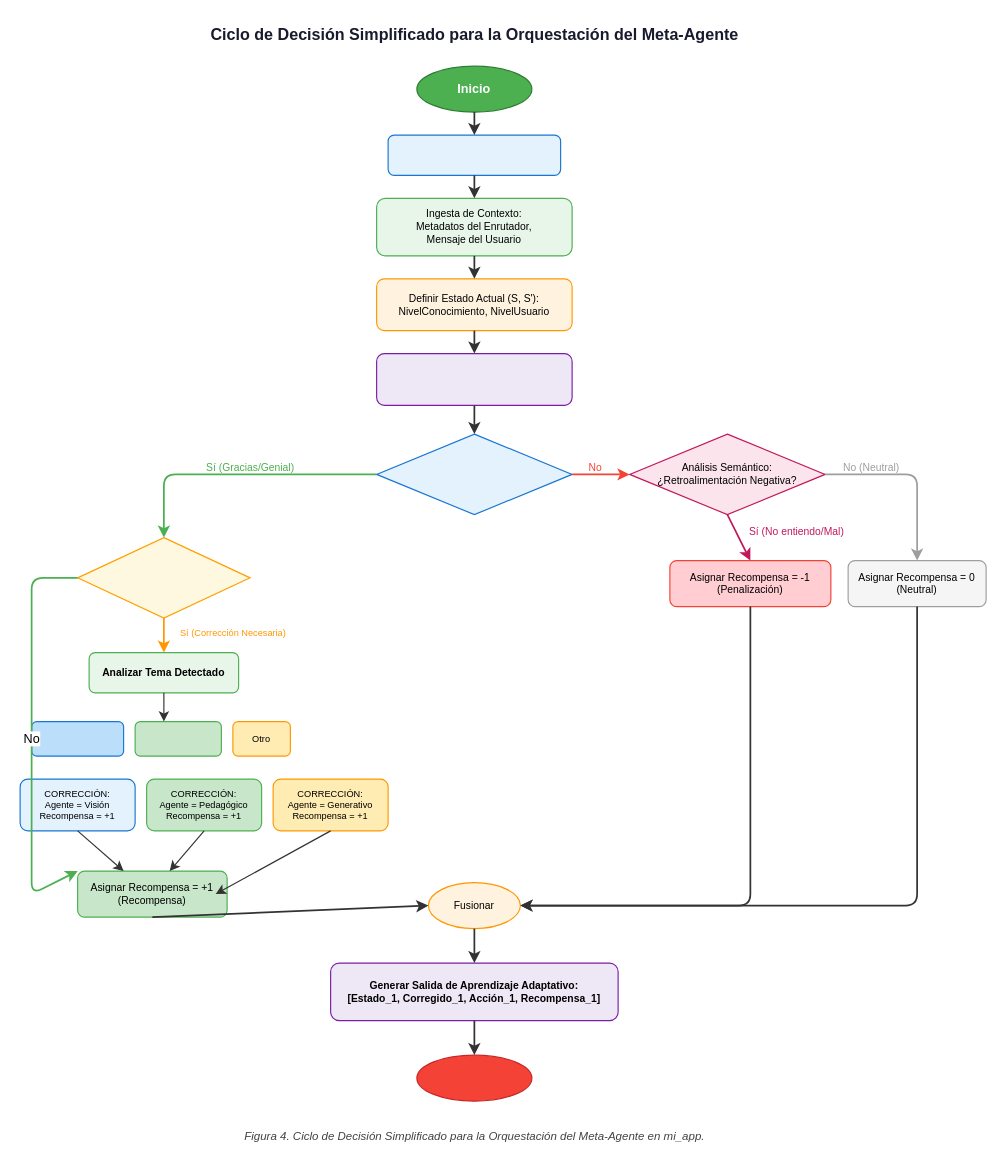
This 1006x1166 diagram has some shape labels left out. Here are the shapes that lost their labels. From the top down, the box of each, then its label:
(387, 134, 561, 175): Procesamiento Inicial
(375, 352, 572, 405): Identificar Acción Inicial (A, S): Agente seleccionado por Enrutador
(375, 433, 572, 515): Análisis Semántico: ¿Retroalimentación Positiva?
(76, 536, 250, 618): ¿Es el agente actual comunicaciónAdaptativa?
(30, 720, 124, 756): Técnico (Escáner)
(134, 720, 221, 756): Guía (Lección)
(416, 1054, 532, 1101): Fin
